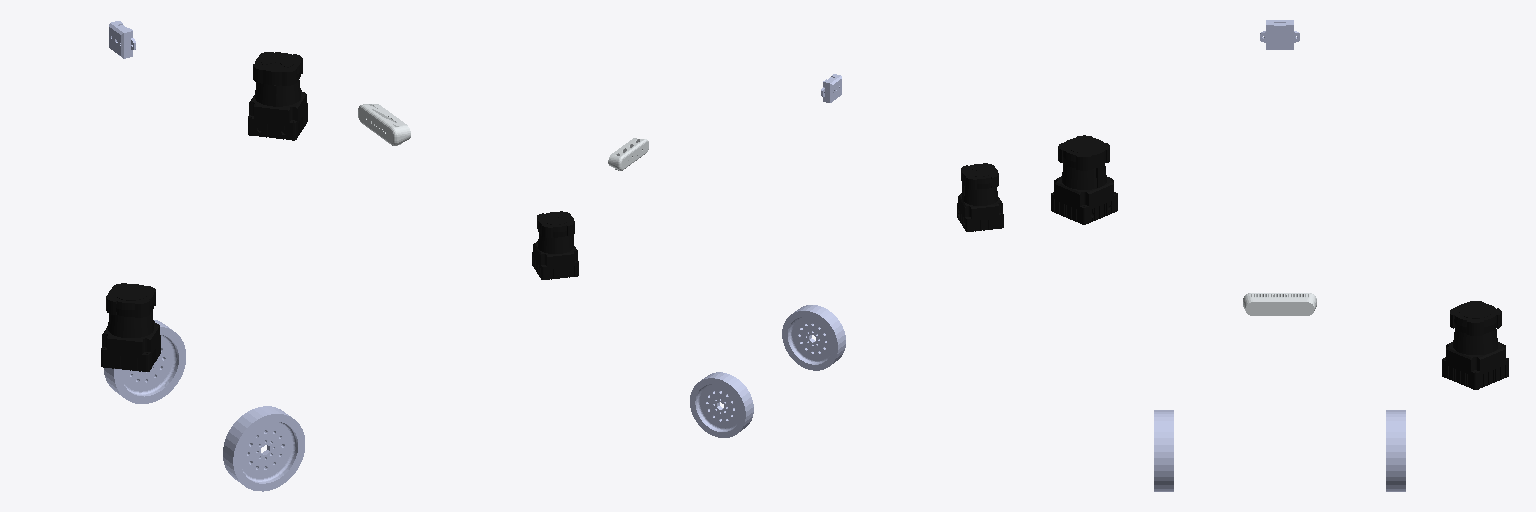
robot.urdf — AllPart_ROS_1:
<?xml version="1.0"?>
<!-- This URDF was automatically created by SolidWorks to URDF Exporter! Originally created by [author] ([email redacted]) 
     Commit Version: 1.6.0-4-g7f85cfe  Build Version: 1.6.7995.38578
     For more information, please see http://wiki.ros.org/sw_urdf_exporter -->
<robot
  name="AllPart_ROS_1">
  <link
    name="Origin_link">
    <inertial>
      <origin
        xyz="-0.0331747526357583 -0.00730194562036099 0.529403570251587"
        rpy="0 0 0" />
      <mass
        value="39.6499106151933" />
      <inertia
        ixx="1.97067595489131"
        ixy="0.128651653547729"
        ixz="0.00189639596414515"
        iyy="1.38397888622251"
        iyz="-0.000372030501518512"
        izz="1.27894920570797" />
    </inertial>
    <visual>
      <origin
        xyz="0 0 0"
        rpy="0 0 0" />
      <geometry>
        <mesh
          filename="package://AllPart_ROS_1/meshes/Origin_link.STL" />
      </geometry>
      <material
        name="">
        <color
          rgba="0.792156862745098 0.819607843137255 0.933333333333333 1" />
      </material>
    </visual>
    <collision>
      <origin
        xyz="0 0 0"
        rpy="0 0 0" />
      <geometry>
        <mesh
          filename="package://AllPart_ROS_1/meshes/Origin_link.STL" />
      </geometry>
    </collision>
  </link>
  <link
    name="Left_Wheel_Link">
    <inertial>
      <origin
        xyz="1.46040297392323E-15 -6.93889390390723E-18 0.00950000000000009"
        rpy="0 0 0" />
      <mass
        value="0.108269552981515" />
      <inertia
        ixx="9.25887924169887E-05"
        ixy="6.59159550628194E-22"
        ixz="-1.03456404054261E-23"
        iyy="9.25887924169888E-05"
        iyz="-1.41737744987348E-21"
        izz="0.000177381436372488" />
    </inertial>
    <visual>
      <origin
        xyz="0 0 0"
        rpy="0 0 0" />
      <geometry>
        <mesh
          filename="package://AllPart_ROS_1/meshes/Left_Wheel_Link.STL" />
      </geometry>
      <material
        name="">
        <color
          rgba="0.792156862745098 0.819607843137255 0.933333333333333 1" />
      </material>
    </visual>
    <collision>
      <origin
        xyz="0 0 0"
        rpy="0 0 0" />
      <geometry>
        <mesh
          filename="package://AllPart_ROS_1/meshes/Left_Wheel_Link.STL" />
      </geometry>
    </collision>
  </link>
  <joint
    name="wheel_Left"
    type="continuous">
    <origin
      xyz="0 0.133 -0.043"
      rpy="-1.5708 0 0" />
    <parent
      link="Origin_link" />
    <child
      link="Left_Wheel_Link" />
    <axis
      xyz="0 0 -1" />
  </joint>
  <link
    name="Right_Wheel_Link">
    <inertial>
      <origin
        xyz="-9.06056691907475E-17 0.000504197063261637 -0.00950000000000009"
        rpy="0 0 0" />
      <mass
        value="0.108269552981515" />
      <inertia
        ixx="9.25887924169887E-05"
        ixy="-6.00998413808059E-22"
        ixz="-2.5489630738247E-21"
        iyy="9.25887924169887E-05"
        iyz="-5.62673759504512E-21"
        izz="0.000177381436372488" />
    </inertial>
    <visual>
      <origin
        xyz="0 0 0"
        rpy="0 0 0" />
      <geometry>
        <mesh
          filename="package://AllPart_ROS_1/meshes/Right_Wheel_Link.STL" />
      </geometry>
      <material
        name="">
        <color
          rgba="0.792156862745098 0.819607843137255 0.933333333333333 1" />
      </material>
    </visual>
    <collision>
      <origin
        xyz="0 0 0"
        rpy="0 0 0" />
      <geometry>
        <mesh
          filename="package://AllPart_ROS_1/meshes/Right_Wheel_Link.STL" />
      </geometry>
    </collision>
  </link>
  <joint
    name="Wheel_Right"
    type="continuous">
    <origin
      xyz="0 -0.133 -0.042496"
      rpy="-1.5708 0 0" />
    <parent
      link="Origin_link" />
    <child
      link="Right_Wheel_Link" />
    <axis
      xyz="0 0 1" />
  </joint>
  <link
    name="Lidar_Front_Link">
    <inertial>
      <origin
        xyz="-2.34552673526456E-05 2.77555756156289E-17 -0.000925327978584606"
        rpy="0 0 0" />
      <mass
        value="0.248316720758954" />
      <inertia
        ixx="8.31868412025183E-05"
        ixy="-2.46791519512013E-17"
        ixz="1.59129766878296E-07"
        iyy="8.34263427877666E-05"
        iyz="4.6200741023068E-17"
        izz="0.000121555340807233" />
    </inertial>
    <visual>
      <origin
        xyz="0 0 0"
        rpy="0 0 0" />
      <geometry>
        <mesh
          filename="package://AllPart_ROS_1/meshes/Lidar_Front_Link.STL" />
      </geometry>
      <material
        name="">
        <color
          rgba="0.109803921568627 0.109803921568627 0.109803921568627 1" />
      </material>
    </visual>
    <collision>
      <origin
        xyz="0 0 0"
        rpy="0 0 0" />
      <geometry>
        <mesh
          filename="package://AllPart_ROS_1/meshes/Lidar_Front_Link.STL" />
      </geometry>
    </collision>
  </link>
  <joint
    name="Lidar_front"
    type="prismatic">
    <origin
      xyz="0.24 0.24 0.211"
      rpy="0 0 0.7854" />
    <parent
      link="Origin_link" />
    <child
      link="Lidar_Front_Link" />
    <axis
      xyz="0 0 -1" />
    <limit
      lower="0"
      upper="0"
      effort="0"
      velocity="0" />
  </joint>
  <link
    name="Lidar_Back_Link">
    <inertial>
      <origin
        xyz="-2.34552673528121E-05 -2.77555756156289E-17 -0.000925327978584661"
        rpy="0 0 0" />
      <mass
        value="0.248316720758954" />
      <inertia
        ixx="8.31868412025183E-05"
        ixy="-2.46994807419354E-17"
        ixz="1.59129766878286E-07"
        iyy="8.34263427877666E-05"
        iyz="4.62114039478004E-17"
        izz="0.000121555340807233" />
    </inertial>
    <visual>
      <origin
        xyz="0 0 0"
        rpy="0 0 0" />
      <geometry>
        <mesh
          filename="package://AllPart_ROS_1/meshes/Lidar_Back_Link.STL" />
      </geometry>
      <material
        name="">
        <color
          rgba="0.109803921568627 0.109803921568627 0.109803921568627 1" />
      </material>
    </visual>
    <collision>
      <origin
        xyz="0 0 0"
        rpy="0 0 0" />
      <geometry>
        <mesh
          filename="package://AllPart_ROS_1/meshes/Lidar_Back_Link.STL" />
      </geometry>
    </collision>
  </link>
  <joint
    name="Lidar_Back"
    type="prismatic">
    <origin
      xyz="-0.24 -0.24 0.211"
      rpy="0 0 -2.3562" />
    <parent
      link="Origin_link" />
    <child
      link="Lidar_Back_Link" />
    <axis
      xyz="0 0 -1" />
    <limit
      lower="0"
      upper="0"
      effort="0"
      velocity="0" />
  </joint>
  <link
    name="Cam_Front_Link">
    <inertial>
      <origin
        xyz="0.000136108231652887 -0.00348873421980028 -0.0124440208259819"
        rpy="0 0 0" />
      <mass
        value="0.107910427285575" />
      <inertia
        ixx="7.02567377723319E-05"
        ixy="-2.48245266666222E-10"
        ixz="-4.92978007946286E-08"
        iyy="7.71002128129138E-06"
        iyz="-1.78474723511188E-08"
        izz="7.12550269124943E-05" />
    </inertial>
    <visual>
      <origin
        xyz="0 0 0"
        rpy="0 0 0" />
      <geometry>
        <mesh
          filename="package://AllPart_ROS_1/meshes/Cam_Front_Link.STL" />
      </geometry>
      <material
        name="">
        <color
          rgba="0.898039215686275 0.917647058823529 0.929411764705882 1" />
      </material>
    </visual>
    <collision>
      <origin
        xyz="0 0 0"
        rpy="0 0 0" />
      <geometry>
        <mesh
          filename="package://AllPart_ROS_1/meshes/Cam_Front_Link.STL" />
      </geometry>
    </collision>
  </link>
  <joint
    name="Cam_Front"
    type="fixed">
    <origin
      xyz="0.26042 0.0035 0.27027"
      rpy="0 1.5708 0" />
    <parent
      link="Origin_link" />
    <child
      link="Cam_Front_Link" />
    <axis
      xyz="0 0 0" />
  </joint>
  <link
    name="Cam_Back_Link">
    <inertial>
      <origin
        xyz="0.000136108180038674 -0.003488733820115 -0.0124440209295308"
        rpy="0 0 0" />
      <mass
        value="0.107910426183708" />
      <inertia
        ixx="7.02567359597132E-05"
        ixy="-2.48455094253909E-10"
        ixz="-4.92977242763416E-08"
        iyy="7.71002115431573E-06"
        iyz="-1.7848010437949E-08"
        izz="7.12550253049952E-05" />
    </inertial>
    <visual>
      <origin
        xyz="0 0 0"
        rpy="0 0 0" />
      <geometry>
        <mesh
          filename="package://AllPart_ROS_1/meshes/Cam_Back_Link.STL" />
      </geometry>
      <material
        name="">
        <color
          rgba="0.898039215686275 0.917647058823529 0.929411764705882 1" />
      </material>
    </visual>
    <collision>
      <origin
        xyz="0 0 0"
        rpy="0 0 0" />
      <geometry>
        <mesh
          filename="package://AllPart_ROS_1/meshes/Cam_Back_Link.STL" />
      </geometry>
    </collision>
  </link>
  <joint
    name="Cam_Back"
    type="fixed">
    <origin
      xyz="-0.25742 -0.0035 0.31227"
      rpy="3.1416 1.5708 0" />
    <parent
      link="Origin_link" />
    <child
      link="Cam_Back_Link" />
    <axis
      xyz="0 0 0" />
  </joint>
  <link
    name="IMU_Link">
    <inertial>
      <origin
        xyz="0.00819747157258567 -0.000135591246461552 -8.58802587028196E-05"
        rpy="0 0 0" />
      <mass
        value="0.0178816032992711" />
      <inertia
        ixx="3.50890500832019E-06"
        ixy="5.90897838352298E-11"
        ixz="1.02803084562234E-08"
        iyy="1.96149528114783E-06"
        iyz="-2.2775473137505E-11"
        izz="2.25934528622389E-06" />
    </inertial>
    <visual>
      <origin
        xyz="0 0 0"
        rpy="0 0 0" />
      <geometry>
        <mesh
          filename="package://AllPart_ROS_1/meshes/IMU_Link.STL" />
      </geometry>
      <material
        name="">
        <color
          rgba="0.792156862745098 0.819607843137255 0.933333333333333 1" />
      </material>
    </visual>
    <collision>
      <origin
        xyz="0 0 0"
        rpy="0 0 0" />
      <geometry>
        <mesh
          filename="package://AllPart_ROS_1/meshes/IMU_Link.STL" />
      </geometry>
    </collision>
  </link>
  <joint
    name="IMU"
    type="fixed">
    <origin
      xyz="-0.124 0.00013601 0.46592"
      rpy="0 0 0" />
    <parent
      link="Origin_link" />
    <child
      link="IMU_Link" />
    <axis
      xyz="0 0 0" />
  </joint>
</robot>

--- Render facts (derived) ---
3 views of the same robot in one strip: view 1: azimuth 30°, elevation 25°; view 2: azimuth 150°, elevation 25°; view 3: azimuth 270°, elevation 25° (orthographic).
Model AllPart_ROS_1 with 8 links and 7 joints (2 continuous, 2 prismatic, 3 fixed), rooted at Origin_link, posed all joints at 0.
Links seen in each view (by area): view 1: Right_Wheel_Link, Lidar_Back_Link, Lidar_Front_Link, Left_Wheel_Link, Cam_Front_Link, IMU_Link; view 2: Right_Wheel_Link, Left_Wheel_Link, Lidar_Front_Link, Lidar_Back_Link, Cam_Front_Link; view 3: Lidar_Back_Link, Lidar_Front_Link, Left_Wheel_Link, Right_Wheel_Link, Cam_Front_Link, IMU_Link.
Link boxes in pixels (left/top/right/bottom): Right_Wheel_Link: left=223, top=406, right=304, bottom=491; Lidar_Back_Link: left=101, top=283, right=160, bottom=371; Lidar_Front_Link: left=248, top=52, right=307, bottom=140; Left_Wheel_Link: left=104, top=320, right=185, bottom=403; Cam_Front_Link: left=358, top=104, right=410, bottom=145; IMU_Link: left=109, top=21, right=135, bottom=58; Right_Wheel_Link: left=782, top=305, right=845, bottom=370; Left_Wheel_Link: left=690, top=372, right=753, bottom=437; Lidar_Front_Link: left=532, top=211, right=578, bottom=279; Lidar_Back_Link: left=957, top=163, right=1003, bottom=231; Cam_Front_Link: left=608, top=138, right=648, bottom=170; Lidar_Back_Link: left=1051, top=135, right=1117, bottom=224; Lidar_Front_Link: left=1442, top=301, right=1508, bottom=389; Left_Wheel_Link: left=1386, top=410, right=1405, bottom=491; Right_Wheel_Link: left=1154, top=410, right=1173, bottom=491; Cam_Front_Link: left=1243, top=293, right=1316, bottom=315; IMU_Link: left=1260, top=20, right=1299, bottom=49.
Bounding box of the posed robot: 0.5622 × 0.5622 × 0.576 m (x, y, z).
6 mesh visuals loaded from 8 distinct referenced files (6 binary STL); not drawn: 2 (file found but could not be loaded).